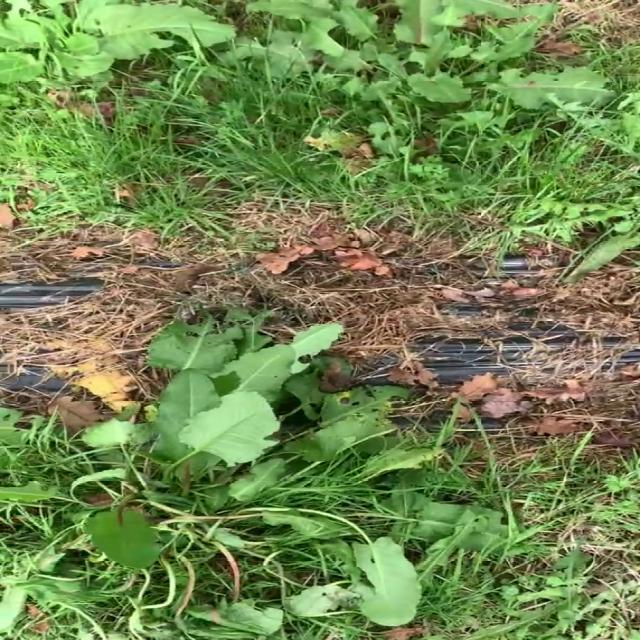organic waste: (0, 304, 523, 640), (211, 0, 623, 153), (0, 0, 205, 99)
